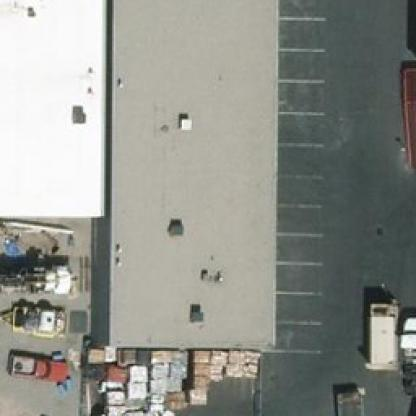car: (3, 344, 67, 386)
